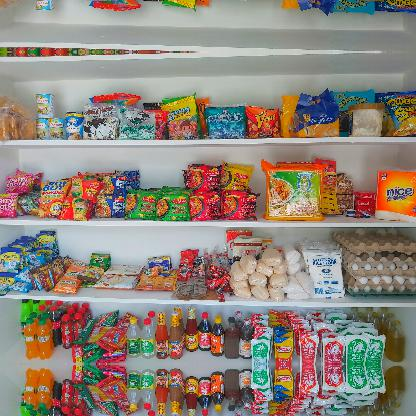Lady-s-Choice: (348, 103, 384, 136)
